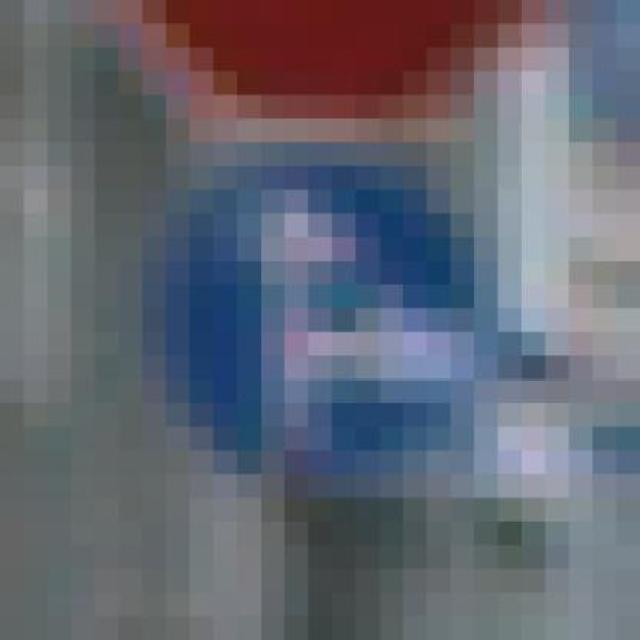Go Straight or Turn Right: (166, 142, 545, 498)
